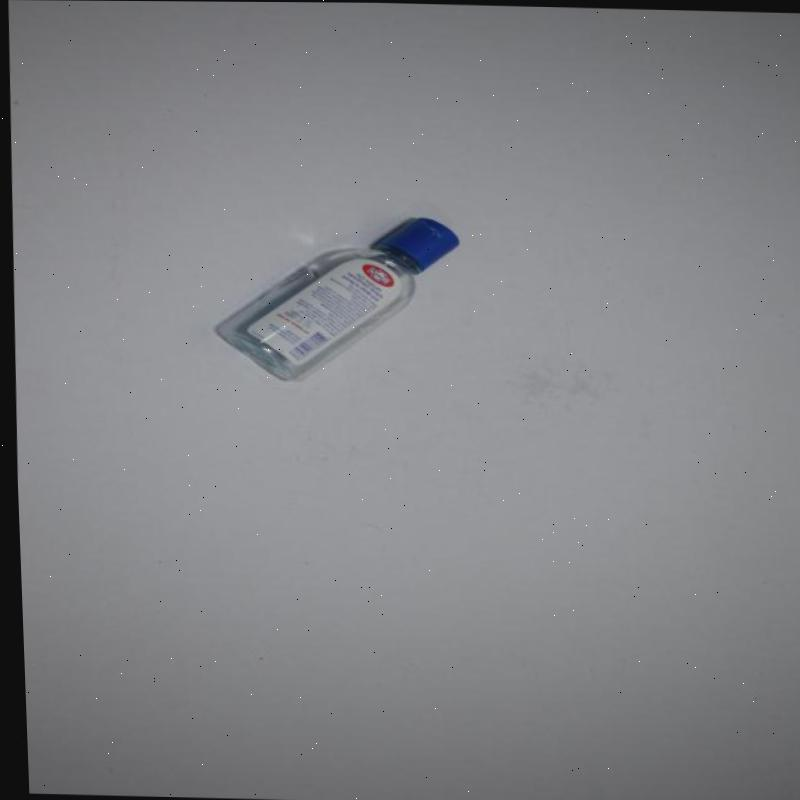botella: (212, 212, 462, 387)
